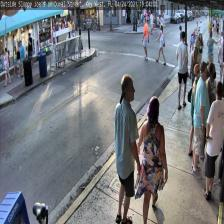person: (138, 95, 167, 224), (202, 80, 224, 198), (176, 31, 187, 109), (189, 39, 201, 97)
